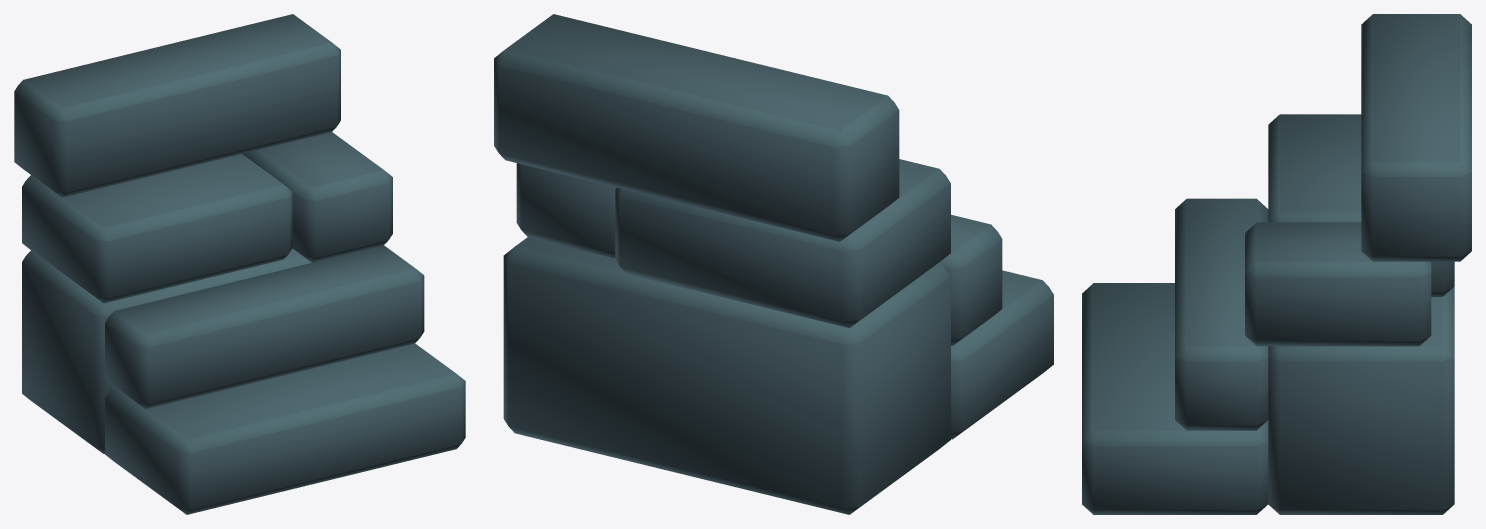
Rendered from stair_straight_1_hue_2.fbx.
3 renders of one model, left to right at view 1: azimuth 30°, elevation 25°; view 2: azimuth 150°, elevation 25°; view 3: azimuth 270°, elevation 25°, orthographic. The views are drawn at different scales.
Parts seen in each view (by area): view 1: stair_straight_1_hue_2; view 2: stair_straight_1_hue_2; view 3: stair_straight_1_hue_2.
Part boxes in pixels (bbox=[...]): stair_straight_1_hue_2: bbox=[14, 14, 465, 514]; stair_straight_1_hue_2: bbox=[494, 14, 1053, 514]; stair_straight_1_hue_2: bbox=[1082, 14, 1471, 514].
Size of the model in its own units: 100 by 105 by 105.
